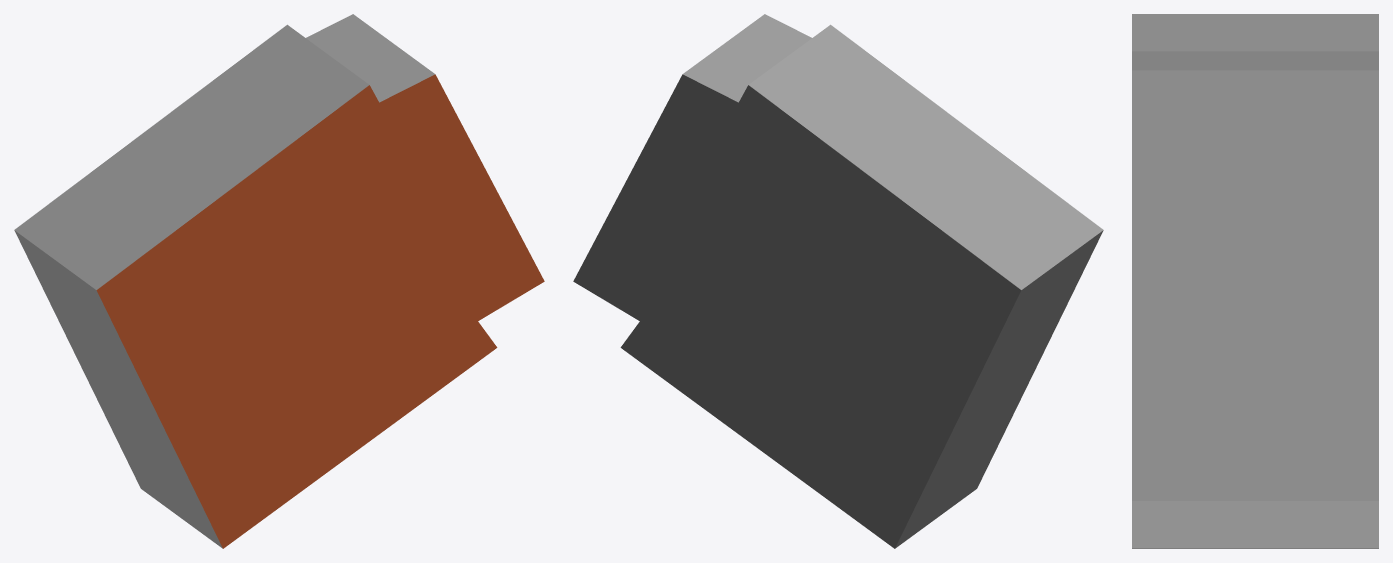
Rendered from construction_1470_assumed_A_Casa_h6m.obj.
3 renders of one model, left to right at view 1: azimuth 30°, elevation 25°; view 2: azimuth 150°, elevation 25°; view 3: azimuth 270°, elevation 25°, orthographic. The views are drawn at different scales.
Visible parts, largest first — view 1: construction_1470_assumed_A_Casa; view 2: construction_1470_assumed_A_Casa; view 3: construction_1470_assumed_A_Casa.
Boxes of the visible parts, box(x1,y1,x2,y2) form: construction_1470_assumed_A_Casa: box(14, 14, 544, 548); construction_1470_assumed_A_Casa: box(573, 14, 1103, 548); construction_1470_assumed_A_Casa: box(1132, 14, 1378, 548).
Size of the model in its own units: 18.86 by 17.22 by 6.
